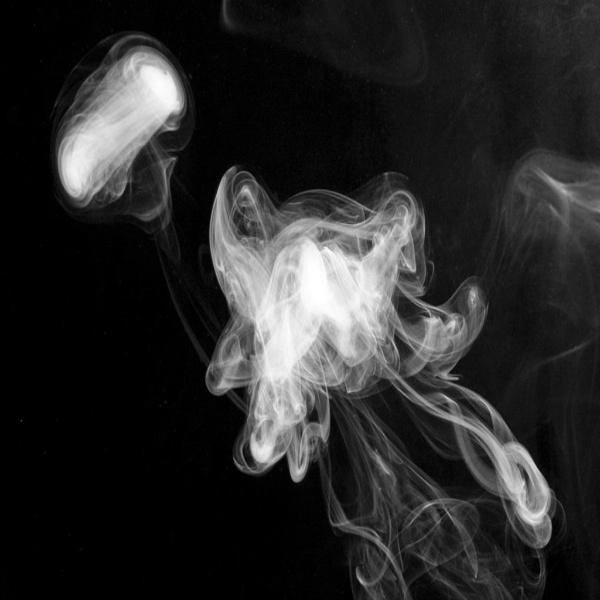Jellyfish: (193, 161, 536, 588)
